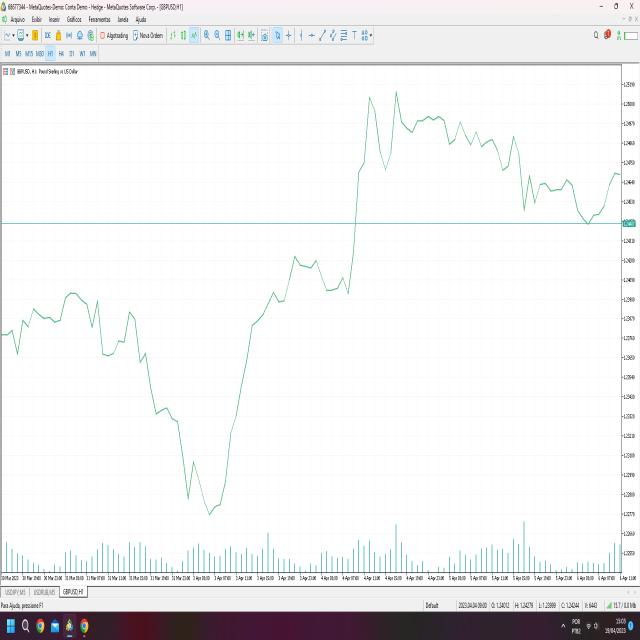bandeira_alta: (337, 74, 422, 322)
fundo_duplo: (162, 360, 252, 532)
